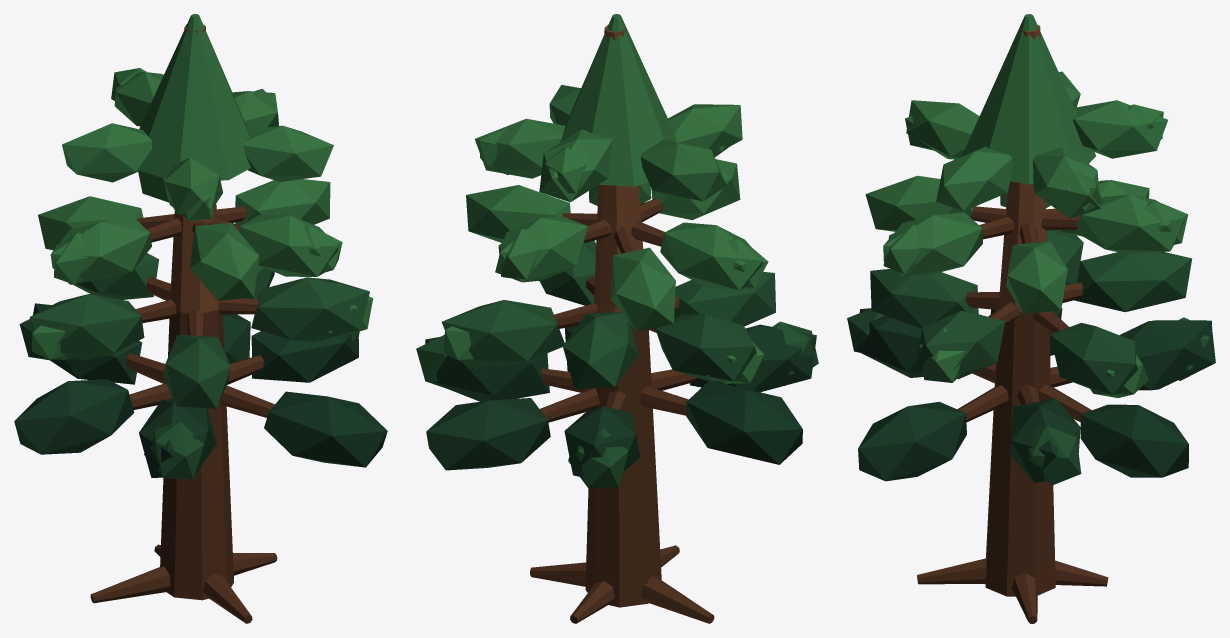
File: tree_pine_a.glb
3 renders of one model, left to right at view 1: azimuth 30°, elevation 25°; view 2: azimuth 150°, elevation 25°; view 3: azimuth 270°, elevation 25°, orthographic. The views are drawn at different scales.
Parts seen in each view (by area): view 1: Leader_Needles, Trunk_Lower, Needles_1_6, Needles_1_4, Needles_2_5, Needles_2_3, Needles_3_4, Needles_3_5, Needles_2_4, Needles_1_1, Needles_4_2, Needles_4_4 (+26 smaller); view 2: Trunk_Lower, Leader_Needles, Needles_1_2, Needles_1_4, Needles_2_1, Needles_2_3, Needles_3_3, Needles_2_2, Needles_3_2, Needles_4_2, Needles_1_1, Needles_3_6 (+28 smaller); view 3: Trunk_Lower, Leader_Needles, Needles_1_6, Needles_1_2, Needles_2_2, Needles_2_4, Needles_2_1, Needles_3_1, Needles_1_3, Needles_2_5, Needles_3_5, Needles_4_1 (+24 smaller).
Part boxes in pixels (box(x1,y1,x2,y2)): Leader_Needles: box(139, 14, 250, 180); Trunk_Lower: box(160, 308, 233, 600); Needles_1_6: box(264, 391, 387, 467); Needles_1_4: box(14, 379, 134, 454); Needles_2_5: box(251, 277, 369, 341); Needles_2_3: box(29, 294, 144, 360); Needles_3_4: box(189, 222, 259, 300); Needles_3_5: box(239, 215, 338, 276); Needles_2_4: box(163, 335, 230, 408); Needles_1_1: box(251, 331, 358, 382); Needles_4_2: box(62, 123, 152, 182); Needles_4_4: box(243, 125, 333, 181); Trunk_Lower: box(585, 312, 661, 607); Leader_Needles: box(560, 14, 676, 186); Needles_1_2: box(426, 398, 550, 470); Needles_1_4: box(686, 381, 802, 464); Needles_2_1: box(441, 300, 564, 367); Needles_2_3: box(655, 314, 756, 381); Needles_3_3: box(660, 222, 762, 290); Needles_2_2: box(563, 312, 638, 388); Needles_3_2: box(610, 247, 675, 331); Needles_4_2: box(640, 139, 726, 201); Needles_1_1: box(425, 337, 549, 401); Needles_3_6: box(466, 185, 570, 242); Trunk_Lower: box(985, 300, 1055, 596); Leader_Needles: box(962, 14, 1095, 184); Needles_1_6: box(858, 401, 966, 481); Needles_1_2: box(1080, 404, 1188, 477); Needles_2_2: box(1074, 252, 1192, 312); Needles_2_4: box(870, 269, 978, 328); Needles_2_1: box(1049, 323, 1138, 395); Needles_3_1: box(1075, 194, 1185, 254); Needles_1_3: box(1119, 320, 1213, 390); Needles_2_5: box(914, 310, 1005, 379); Needles_3_5: box(883, 212, 982, 276); Needles_4_1: box(1073, 100, 1167, 158).
Bounding box in the file's own units: 3.83 × 5.78 × 3.4.
